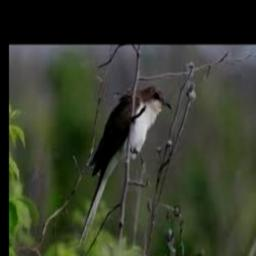Cuckoo: (78, 84, 172, 248)
